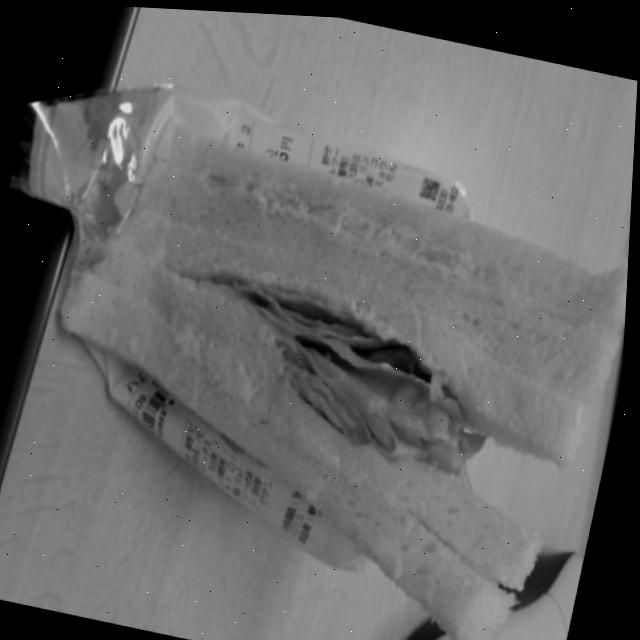三明治: (16, 71, 633, 640)
